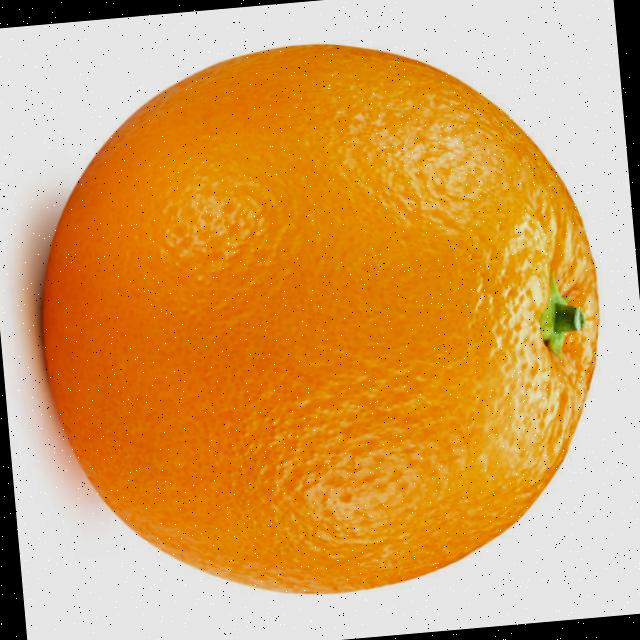Ripe: (11, 14, 630, 626)
